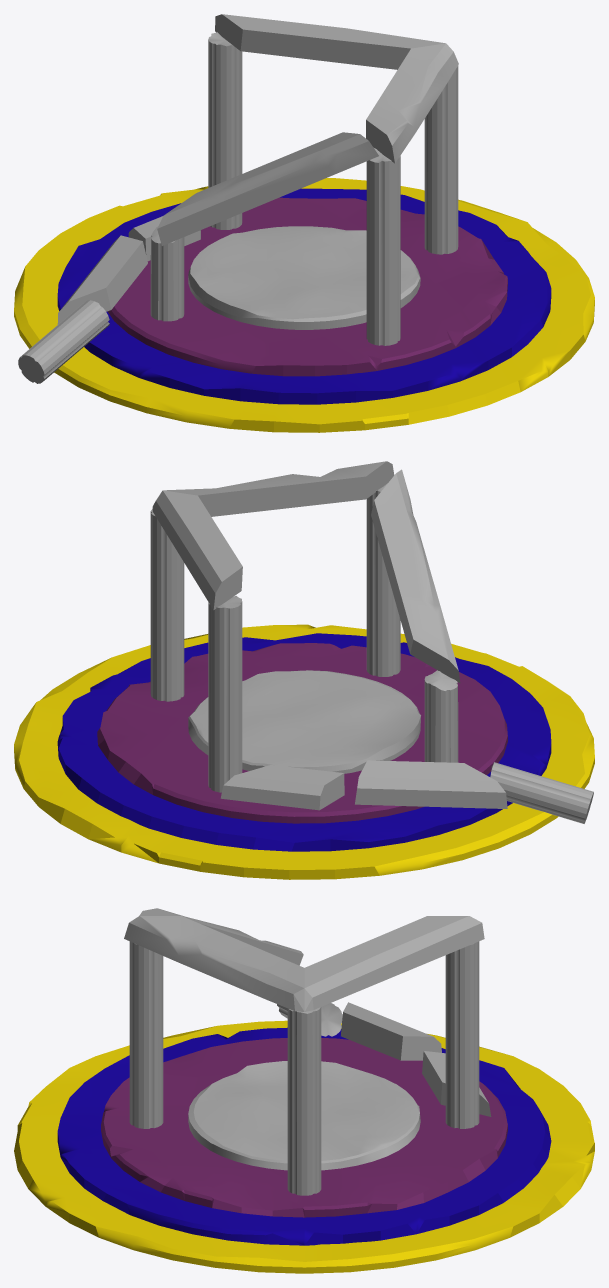
Rendered from shrine.fbx.
3 views of the same model, one above another, from view 1: azimuth 30°, elevation 25°; view 2: azimuth 150°, elevation 25°; view 3: azimuth 270°, elevation 25° (orthographic).
Visible parts, largest first — view 1: pPlane1, pPlane3, pPlane2, pPlane4, polySurface23, polySurface26, pCylinder1, pCylinder6, pCylinder3, pCylinder5, polySurface28, pCylinder4 (+1 smaller); view 2: pPlane1, pPlane3, pPlane2, pPlane4, polySurface23, polySurface26, pCylinder3, polySurface28, pCylinder6, pCylinder1, polySurface27, pCylinder5 (+1 smaller); view 3: pPlane3, pPlane1, pPlane2, pPlane4, polySurface23, pCylinder6, pCylinder3, pCylinder1, polySurface28, polySurface26, polySurface27, pCylinder5.
Part boxes in pixels (x1,y1,x2,y2): pPlane1: [14, 178, 594, 432]; pPlane3: [107, 197, 507, 376]; pPlane2: [57, 188, 551, 404]; pPlane4: [188, 226, 420, 329]; polySurface23: [215, 14, 458, 163]; polySurface26: [157, 132, 378, 245]; pCylinder1: [366, 148, 400, 345]; pCylinder6: [424, 65, 458, 254]; pCylinder3: [208, 32, 242, 229]; pCylinder5: [18, 300, 109, 383]; polySurface28: [57, 235, 147, 324]; pCylinder4: [150, 226, 184, 321]; pPlane1: [14, 624, 594, 879]; pPlane3: [97, 643, 507, 823]; pPlane2: [57, 633, 551, 851]; pPlane4: [188, 670, 421, 773]; polySurface23: [152, 461, 394, 609]; polySurface26: [371, 469, 460, 682]; pCylinder3: [208, 596, 242, 792]; polySurface28: [355, 760, 507, 808]; pCylinder6: [150, 509, 184, 701]; pCylinder1: [366, 483, 400, 676]; polySurface27: [220, 765, 344, 810]; pCylinder5: [490, 762, 593, 823]; pPlane3: [101, 1038, 507, 1217]; pPlane1: [14, 1020, 594, 1273]; pPlane2: [57, 1027, 551, 1245]; pPlane4: [188, 1061, 420, 1170]; polySurface23: [124, 916, 484, 1011]; pCylinder6: [287, 1007, 321, 1195]; pCylinder3: [445, 941, 479, 1128]; pCylinder1: [129, 941, 163, 1128]; polySurface28: [341, 1002, 441, 1060]; polySurface26: [139, 908, 303, 965]; polySurface27: [422, 1051, 491, 1116]; pCylinder5: [277, 1003, 342, 1036].
Size of the model in its own units: 9.19 by 3.89 by 8.63.
